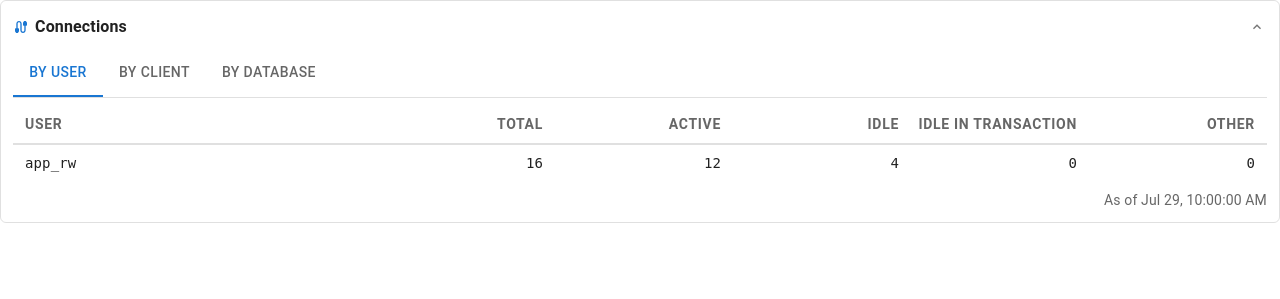
ConnectionsSection › requests group_by=client and shows the client hostname
expect the text "app_rw" is shown: met, box [25, 155, 76, 171]
Click the tab "By Client": (154, 73) [103, 49, 206, 97]
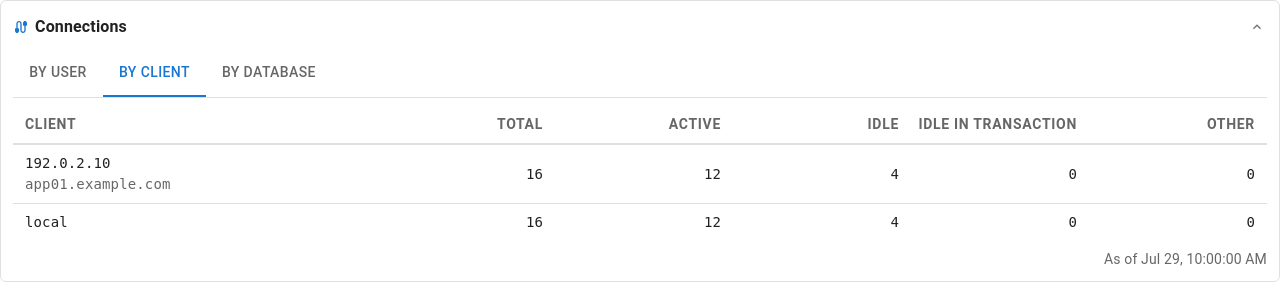
expect the text "192.0.2.10" is shown: met, box [25, 155, 111, 171]
expect the text "app01.example.com" is shown: met, box [25, 176, 170, 192]
expect the text "local" is shown: met, box [25, 214, 68, 230]
